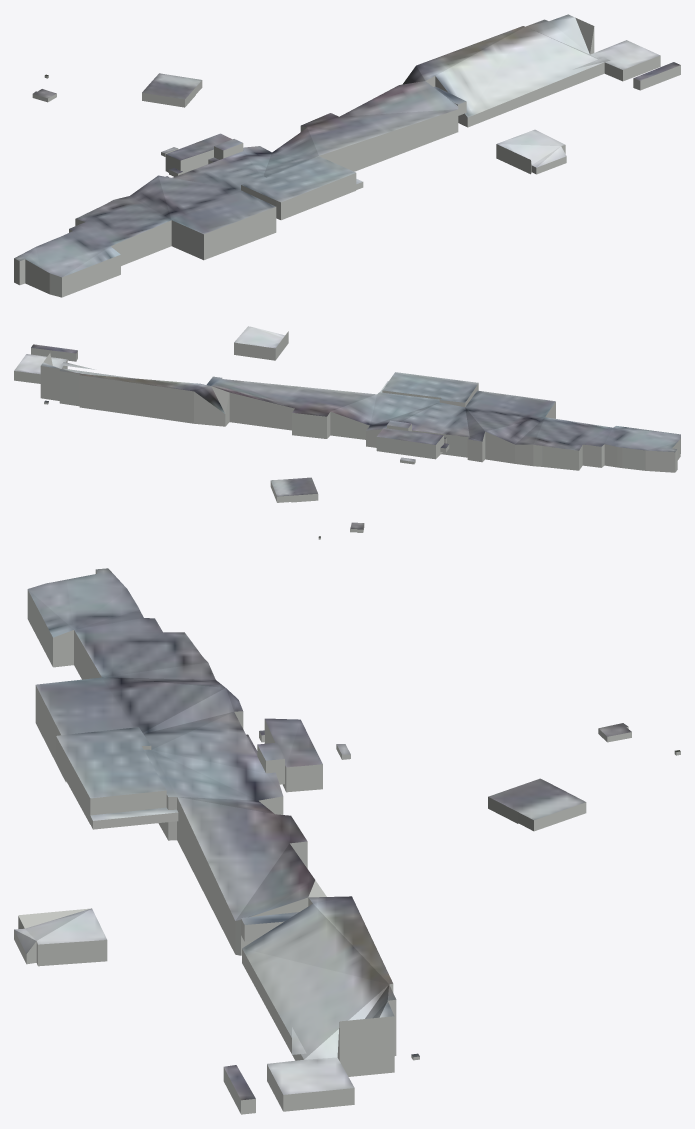
File: LFSB_2_-2.glb
3 views of the same model, one above another, from view 1: azimuth 30°, elevation 25°; view 2: azimuth 150°, elevation 25°; view 3: azimuth 270°, elevation 25° (orthographic). The views are drawn at different scales.
Visible parts, largest first — view 1: building_BATIMENT0000000219452625, building_BATIMENT0000002204047504, building_BATIMENT0000000048083267, building_BATIMENT0000000219452627, building_BATIMENT0000000048083268, building_BATIMENT0000000228170149, building_BATIMENT0000000219452626, building_BATIMENT0000002204047507; view 2: building_BATIMENT0000000219452625, building_BATIMENT0000002204047504, building_BATIMENT0000000048083268, building_BATIMENT0000000048083267, building_BATIMENT0000000219452627, building_BATIMENT0000000228170149, building_BATIMENT0000000219452626, building_BATIMENT0000000358878114; view 3: building_BATIMENT0000000219452625, building_BATIMENT0000002204047504, building_BATIMENT0000000048083267, building_BATIMENT0000000219452627, building_BATIMENT0000000048083268, building_BATIMENT0000000228170149, building_BATIMENT0000000358878114, building_BATIMENT0000002493913706, building_BATIMENT0000000219452626, building_BATIMENT0000002493913690, building_BATIMENT0000002204047507.
Boxes of the visible parts, x1,y1,x2,y2 form: building_BATIMENT0000000219452625: [14, 14, 604, 297]; building_BATIMENT0000002204047504: [241, 156, 356, 220]; building_BATIMENT0000000048083267: [496, 129, 566, 174]; building_BATIMENT0000000219452627: [590, 40, 660, 81]; building_BATIMENT0000000048083268: [165, 133, 232, 173]; building_BATIMENT0000000228170149: [142, 80, 195, 107]; building_BATIMENT0000000219452626: [633, 62, 680, 90]; building_BATIMENT0000002204047507: [214, 139, 243, 159]; building_BATIMENT0000000219452625: [40, 353, 680, 472]; building_BATIMENT0000002204047504: [382, 372, 478, 407]; building_BATIMENT0000000048083268: [376, 428, 443, 459]; building_BATIMENT0000000048083267: [234, 326, 288, 360]; building_BATIMENT0000000219452627: [14, 354, 67, 383]; building_BATIMENT0000000228170149: [285, 477, 318, 502]; building_BATIMENT0000000219452626: [31, 344, 77, 361]; building_BATIMENT0000000358878114: [270, 479, 291, 502]; building_BATIMENT0000000219452625: [27, 568, 396, 1076]; building_BATIMENT0000002204047504: [56, 727, 166, 824]; building_BATIMENT0000000048083267: [14, 908, 107, 966]; building_BATIMENT0000000219452627: [267, 1057, 354, 1111]; building_BATIMENT0000000048083268: [264, 718, 322, 792]; building_BATIMENT0000000228170149: [488, 778, 569, 823]; building_BATIMENT0000000358878114: [518, 794, 586, 831]; building_BATIMENT0000002493913706: [90, 807, 178, 829]; building_BATIMENT0000000219452626: [223, 1065, 255, 1114]; building_BATIMENT0000002493913690: [241, 912, 299, 941]; building_BATIMENT0000002204047507: [257, 742, 284, 784].
Bounding box in the file's own units: 698 × 35.9 × 384.
3 materials, 2 textured.
